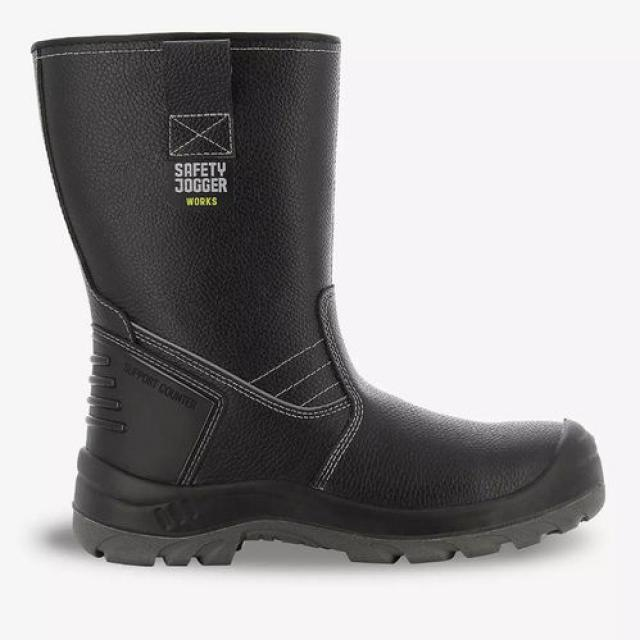shoes: (32, 34, 604, 566)
